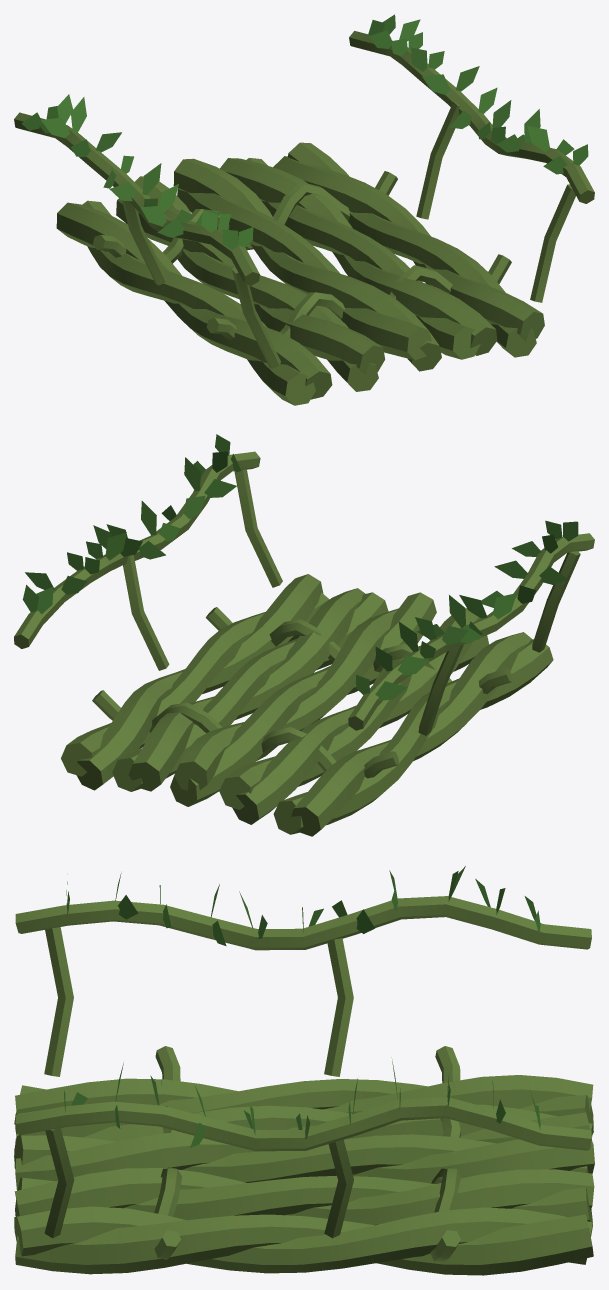
File: vine_deck.glb
3 views of the same model, one above another, from view 1: azimuth 30°, elevation 25°; view 2: azimuth 150°, elevation 25°; view 3: azimuth 270°, elevation 25° (orthographic). The views are drawn at different scales.
Parts seen in each view (by area): view 1: vine_deck; view 2: vine_deck; view 3: vine_deck.
Part boxes in pixels (x1,y1,x2,y2): vine_deck: (14,14,594,405); vine_deck: (14,434,594,836); vine_deck: (14,866,594,1275).
Size of the model in its own units: 2.05 by 0.9499 by 2.08.
